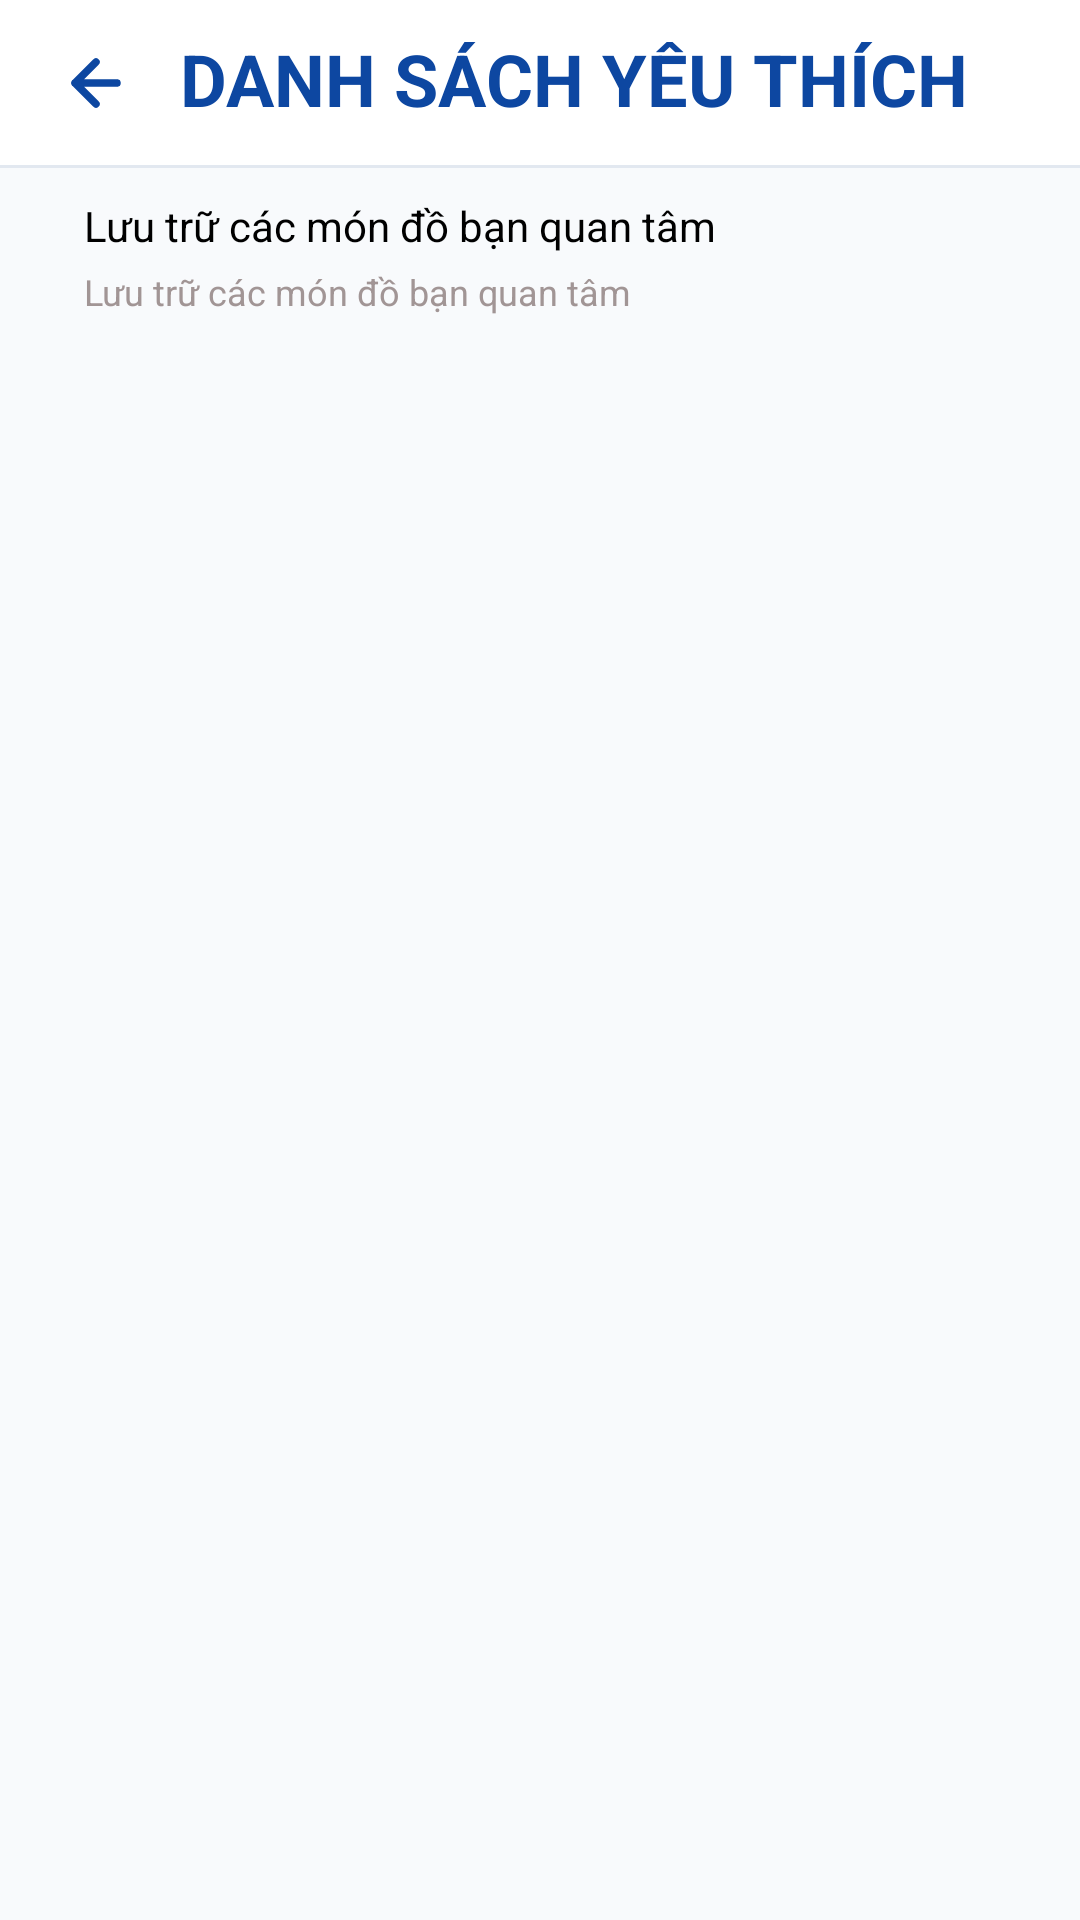

Screen size 1080×1920. Icon name, then its box in pixels as detection(x1, y1, x2, y2):
Quay lại Trang chủ: detection(71, 58, 121, 108)
